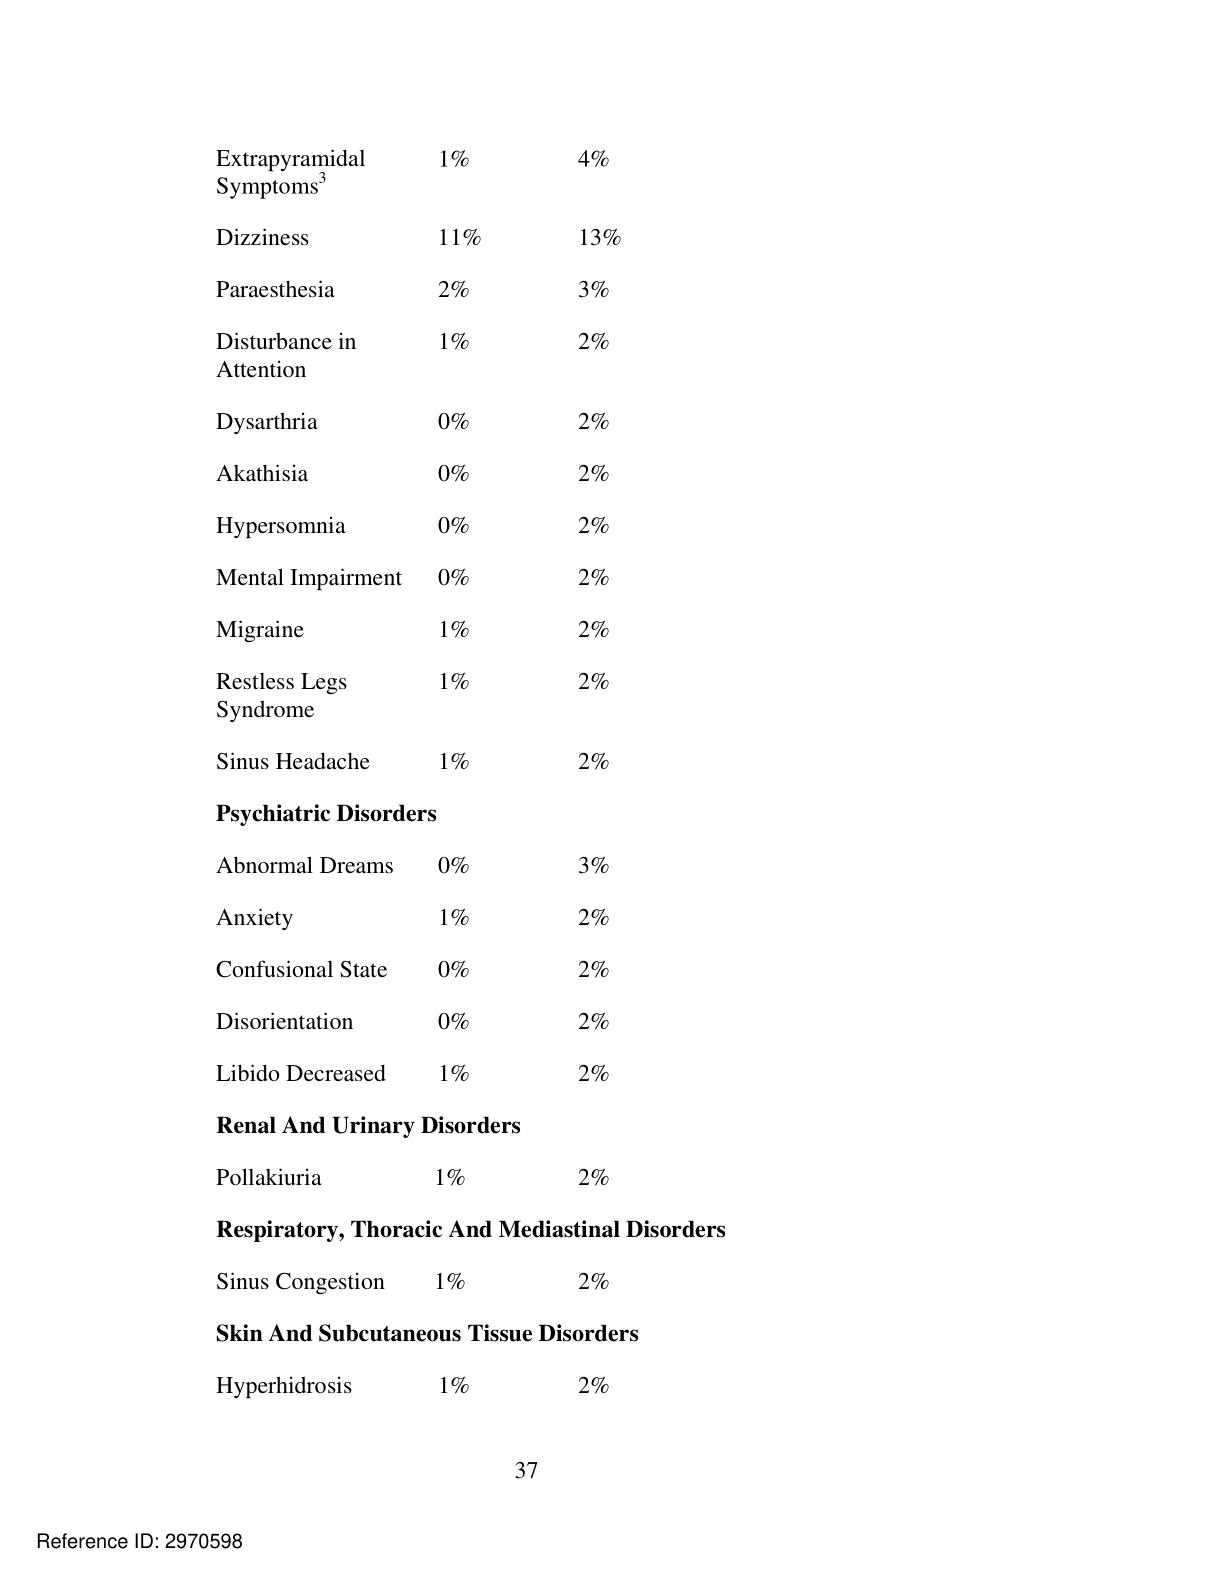nolines: (213, 145, 729, 1401)
